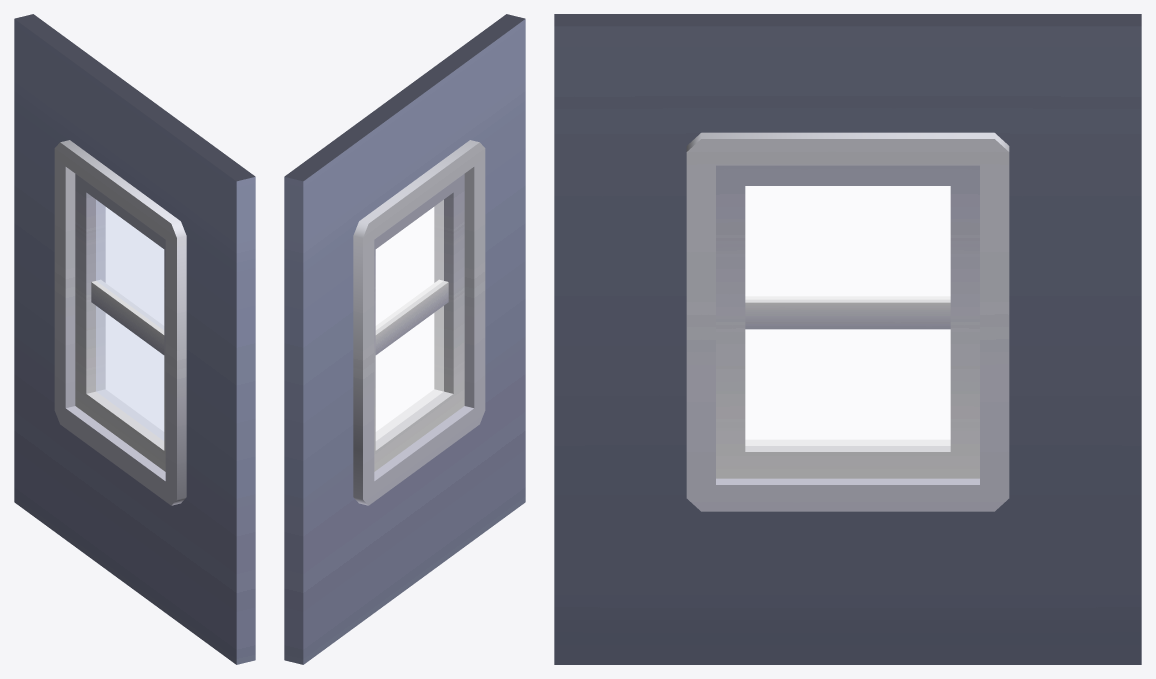
File: wall-window-square-detailed.glb
3 renders of one model, left to right at view 1: azimuth 30°, elevation 25°; view 2: azimuth 150°, elevation 25°; view 3: azimuth 270°, elevation 25°, orthographic. The views are drawn at different scales.
Parts seen in each view (by area): view 1: wall-window-square-detailed, (%ignore); view 2: wall-window-square-detailed, (%ignore); view 3: wall-window-square-detailed, (%ignore).
Part boxes in pixels (bbox=[...]): wall-window-square-detailed: bbox=[14, 14, 255, 664]; (%ignore): bbox=[96, 200, 164, 440]; wall-window-square-detailed: bbox=[284, 14, 525, 664]; (%ignore): bbox=[375, 200, 443, 440]; wall-window-square-detailed: bbox=[554, 14, 1141, 664]; (%ignore): bbox=[745, 186, 950, 445].
Size of the model in its own units: 0.2001 by 2.4 by 2.
Materials: 2 (1 with a texture image).
